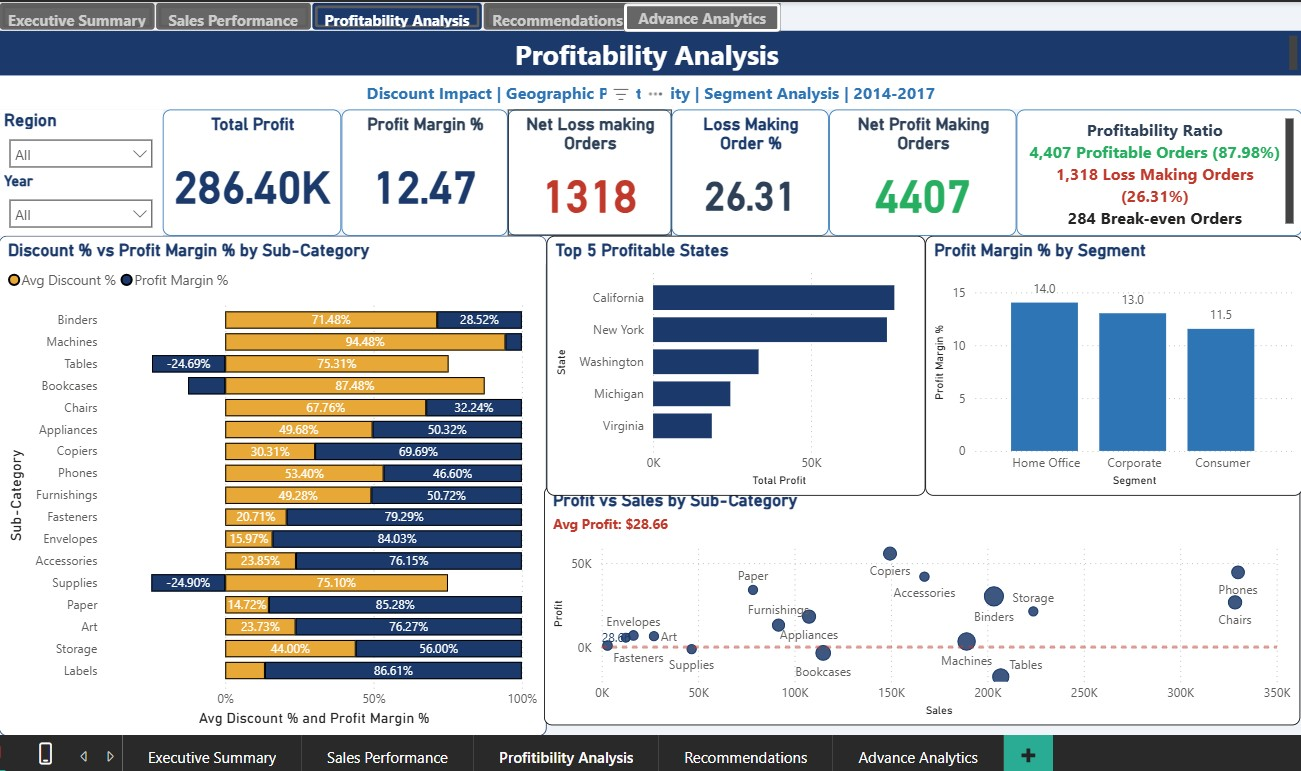

What the dashboard file says about the page in this screenshot:
{"tool":"powerbi","page":{"name":"Profitibility Analysis","canvas":[1280,720],"ordinal":2},"visuals":[{"type":"hundredPercentStackedBarChart","title":"Discount % vs Profit Margin % by Sub-Category","fields":{"Category":["Sample - Superstore.Sub-Category"],"Y":["Sample - Superstore.Avg Discount %","Sample - Superstore.Profit Margin %"]},"box":[0,229.4,537.4,490.8],"z":0},{"type":"textbox","box":[0,28.2,1279.8,44.2],"z":1000},{"type":"textbox","box":[0,72.4,1279.8,33.1],"z":2000},{"type":"slicer","title":"Year","fields":{"Values":["DateTable.Year"]},"box":[0,166.9,160.7,62.6],"z":3000},{"type":"slicer","title":"Region","fields":{"Values":["Sample - Superstore.Region"]},"box":[0,105.5,160.7,61.4],"z":4000},{"type":"card","title":"Total Profit","fields":{"Values":["Sample - Superstore.Total Profit"]},"box":[160.7,105.5,175.5,123.9],"z":5000},{"type":"card","title":"Profit Margin %","fields":{"Values":["Sample - Superstore.Profit Margin %"]},"box":[336.2,105.5,163.2,123.9],"z":6000},{"type":"card","title":"Net Loss making Orders","fields":{"Values":["Sample - Superstore.Loss Making Orders"]},"box":[499.4,105.5,160.7,123.9],"z":7000},{"type":"card","title":"Loss Making Order %","fields":{"Values":["Sample - Superstore.Loss Making Orders %"]},"box":[660.1,105.5,154.6,123.9],"z":8000},{"type":"scatterChart","title":"Profit vs Sales by Sub-Category","fields":{"X":["Sample - Superstore.Total Sales"],"Y":["Sample - Superstore.Total Profit"],"Category":["Sample - Superstore.Sub-Category"],"Size":["Sample - Superstore.Avg Discount %"]},"box":[535,474.8,742.3,235.6],"z":9000},{"type":"clusteredBarChart","title":"Top 5 Profitable States","fields":{"Category":["Sample - Superstore.State"],"Y":["Sample - Superstore.Total Profit"]},"box":[537.9,229.2,371.9,255.2],"z":10000},{"type":"clusteredColumnChart","title":"Profit Margin % by Segment","fields":{"Category":["Sample - Superstore.Segment"],"Y":["Sample - Superstore.Profit Margin %"]},"box":[909.8,229.2,370.5,255.2],"z":11000},{"type":"card","title":"Net Profit Making Orders","fields":{"Values":["Sample - Superstore.Profitable Orders"]},"box":[814.7,105.5,184.1,123.9],"z":12000},{"type":"textbox","box":[998.8,105.5,281,123.9],"z":13000},{"type":"actionButton","title":"Executive Summary","box":[0,0,153.4,28.2],"z":14000},{"type":"actionButton","title":"Executive Summary","box":[153.4,0,153.4,28.2],"z":15000},{"type":"actionButton","title":"Executive Summary","box":[306.8,0,168.1,28.2],"z":16000},{"type":"actionButton","title":"Executive Summary","box":[474.8,0,147.2,28.2],"z":17000},{"type":"actionButton","title":"Executive Summary","box":[613.5,1.2,153.4,28.2],"z":18000}]}

Visuals, with their boxes on the page's 1280x720 design canvas (x1, y1, x2, y2). These are canvas units, not pixel positions in the 1301x771 screenshot, which may show the page scaled, cropped or inside an application window:
"Discount % vs Profit Margin % by Sub-Category" hundredPercentStackedBarChart: bbox=[0, 229, 537, 720]
textbox: bbox=[0, 28, 1280, 72]
textbox: bbox=[0, 72, 1280, 106]
"Year" slicer: bbox=[0, 167, 161, 230]
"Region" slicer: bbox=[0, 106, 161, 167]
"Total Profit" card: bbox=[161, 106, 336, 229]
"Profit Margin %" card: bbox=[336, 106, 499, 229]
"Net Loss making Orders" card: bbox=[499, 106, 660, 229]
"Loss Making Order %" card: bbox=[660, 106, 815, 229]
"Profit vs Sales by Sub-Category" scatterChart: bbox=[535, 475, 1277, 710]
"Top 5 Profitable States" clusteredBarChart: bbox=[538, 229, 910, 484]
"Profit Margin % by Segment" clusteredColumnChart: bbox=[910, 229, 1280, 484]
"Net Profit Making Orders" card: bbox=[815, 106, 999, 229]
textbox: bbox=[999, 106, 1280, 229]
"Executive Summary" actionButton: bbox=[0, 0, 153, 28]
"Executive Summary" actionButton: bbox=[153, 0, 307, 28]
"Executive Summary" actionButton: bbox=[307, 0, 475, 28]
"Executive Summary" actionButton: bbox=[475, 0, 622, 28]
"Executive Summary" actionButton: bbox=[614, 1, 767, 29]
